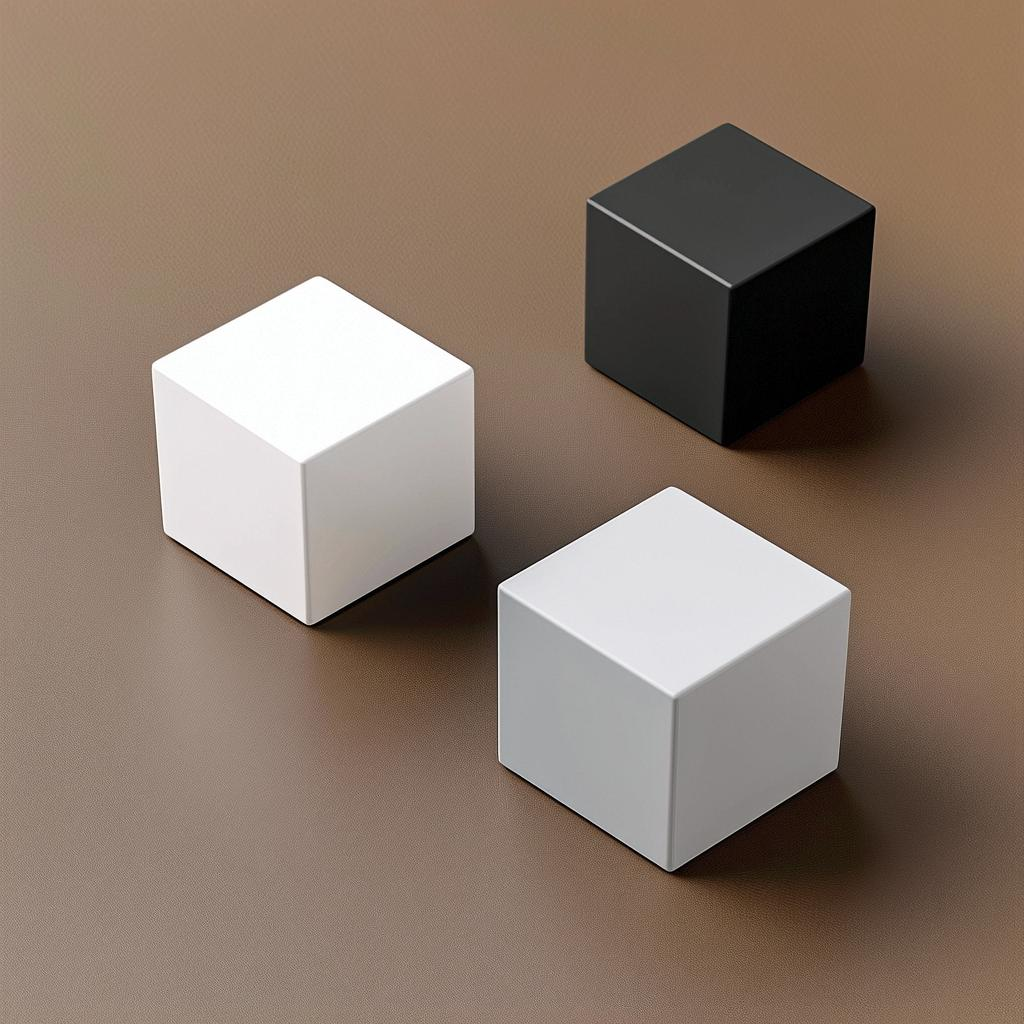cube: (495, 484, 851, 873), (150, 273, 476, 626), (582, 120, 876, 447)
